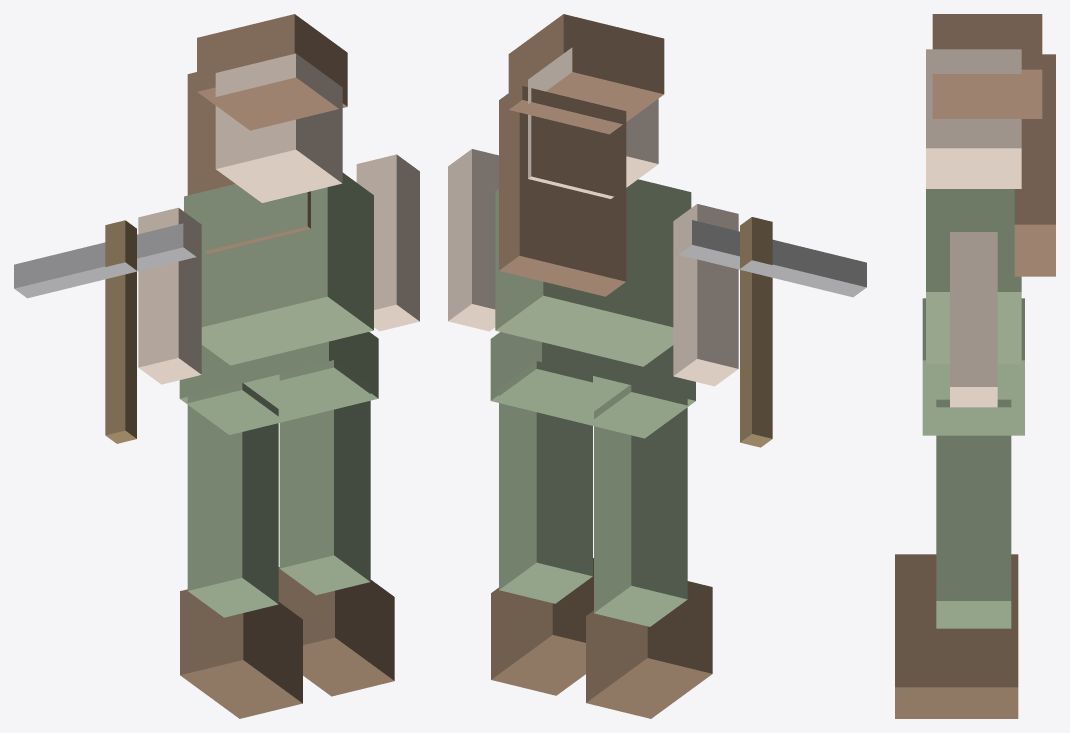
The model's file is climboria_free_base.glb.
3 renders of one model, left to right at view 1: azimuth 30°, elevation 25°; view 2: azimuth 150°, elevation 25°; view 3: azimuth 270°, elevation 25°, orthographic. The views are drawn at different scales.
Visible parts, largest first — view 1: Torso_Green, LegL_Green, LegR_Green, Head_Skin, BootL_Brown, Hips_Green, Hair_Brown, BootR_Brown, ArmL_Skin, ArmR_Skin, Pickaxe_Handle, Pickaxe_Head (+1 smaller); view 2: Hair_Long, LegL_Green, LegR_Green, Torso_Green, Hips_Green, BootL_Brown, Hair_Brown, ArmL_Skin, BootR_Brown, ArmR_Skin, Pickaxe_Handle, Pickaxe_Head (+1 smaller); view 3: LegR_Green, BootR_Brown, Torso_Green, Hair_Brown, Head_Skin, ArmR_Skin, Hair_Long, Hips_Green, BootL_Brown.
Boxes of the visible parts, x1,y1,x2,y2 form: Torso_Green: (184, 172, 373, 365); LegL_Green: (187, 382, 278, 617); LegR_Green: (279, 360, 370, 595); Head_Skin: (215, 53, 342, 202); BootL_Brown: (180, 589, 302, 718); Hips_Green: (179, 332, 378, 434); Hair_Brown: (197, 14, 347, 130); BootR_Brown: (278, 567, 394, 696); ArmL_Skin: (138, 207, 201, 384); ArmR_Skin: (356, 154, 419, 331); Pickaxe_Handle: (105, 220, 136, 443); Pickaxe_Head: (14, 223, 195, 298); Hair_Long: (499, 86, 626, 296); LegL_Green: (594, 384, 687, 626); LegR_Green: (499, 361, 592, 603); Torso_Green: (495, 179, 691, 366); Hips_Green: (490, 332, 695, 438); BootL_Brown: (586, 581, 712, 718); Hair_Brown: (508, 14, 664, 134); ArmL_Skin: (673, 204, 738, 386); BootR_Brown: (491, 558, 593, 695); ArmR_Skin: (448, 149, 498, 331); Pickaxe_Handle: (740, 217, 772, 447); Pickaxe_Head: (678, 220, 866, 297); LegR_Green: (936, 399, 1011, 628); BootR_Brown: (895, 600, 1018, 718); Torso_Green: (926, 189, 1021, 364); Hair_Brown: (932, 14, 1042, 118); Head_Skin: (926, 49, 1021, 188); ArmR_Skin: (950, 232, 997, 407); Hair_Long: (1014, 54, 1055, 276); Hips_Green: (922, 298, 1024, 435); BootL_Brown: (895, 554, 1018, 600).
Bounding box in the file's own units: 1.35 × 2.07 × 0.47.
